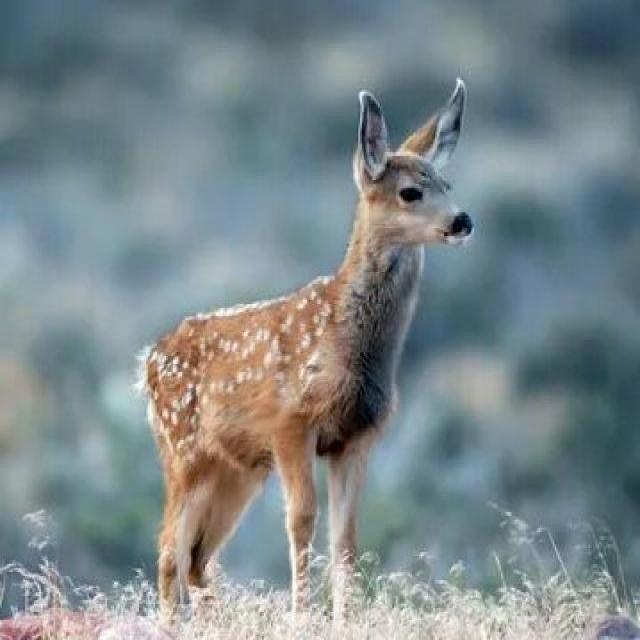deer: (108, 46, 484, 602)
